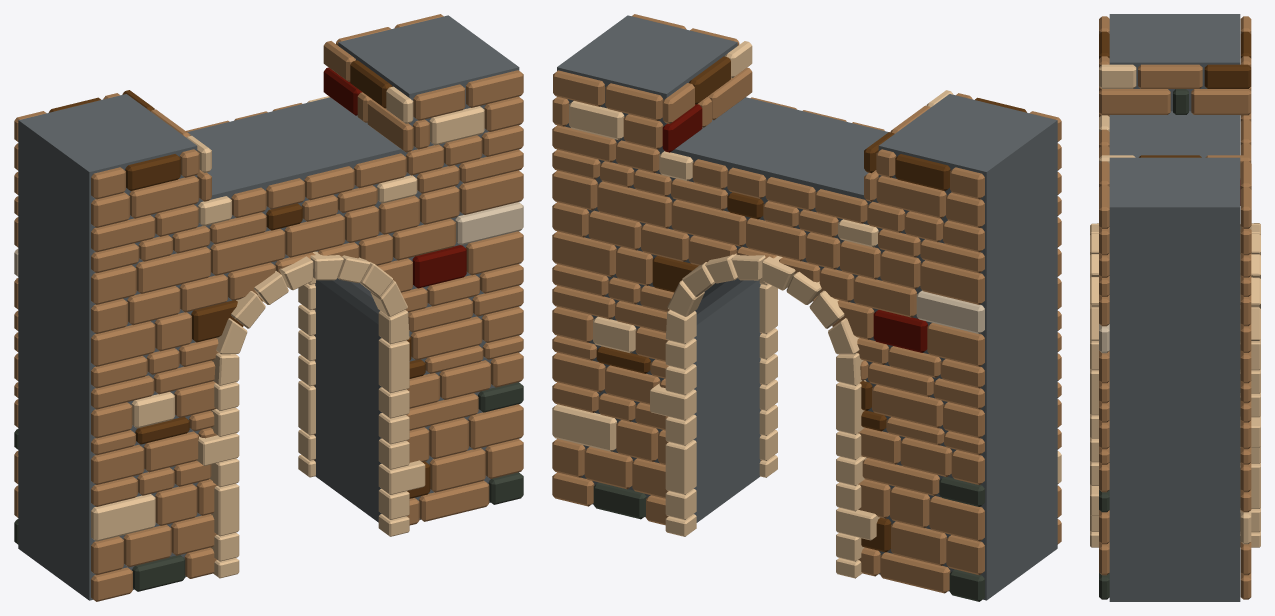
The model's file is wall-section-with-doorway.glb.
The picture shows the model from 3 angles, left to right: view 1: azimuth 30°, elevation 25°; view 2: azimuth 150°, elevation 25°; view 3: azimuth 270°, elevation 25°; orthographic projection. The views are drawn at different scales.
Visible parts, largest first — view 1: wall-back-lower, wall-core, doorframe.001, wall-back-upper-right, wall-back-upper-left, wall-crenellation-right, doorframe.002, wall-front-lower, wall-crenellation-left; view 2: wall-front-lower, wall-core, doorframe.002, wall-front-upper-left, wall-front-upper-right, wall-crenellation-right, doorframe.001, wall-back-lower, wall-crenellation-left; view 3: wall-core, wall-crenellation-left, wall-front-lower, wall-back-lower, doorframe.002, doorframe.001, wall-front-upper-left, wall-back-upper-right, wall-front-upper-right, wall-crenellation-right, wall-back-upper-left.
Part boxes in pixels (<box>): wall-back-lower: <box>91,125,523,601</box>; wall-core: <box>18,15,519,600</box>; doorframe.001: <box>197,251,425,578</box>; wall-back-upper-right: <box>413,70,523,149</box>; wall-back-upper-left: <box>91,149,199,227</box>; wall-crenellation-right: <box>323,41,413,152</box>; doorframe.002: <box>298,278,315,477</box>; wall-front-lower: <box>14,96,329,544</box>; wall-crenellation-left: <box>122,90,211,201</box>; wall-front-lower: <box>552,125,984,601</box>; wall-core: <box>557,15,1057,600</box>; doorframe.002: <box>650,253,879,578</box>; wall-front-upper-left: <box>552,70,663,149</box>; wall-front-upper-right: <box>876,149,984,227</box>; wall-crenellation-right: <box>662,41,752,152</box>; doorframe.001: <box>759,278,777,477</box>; wall-back-lower: <box>750,97,1061,544</box>; wall-crenellation-left: <box>864,90,953,201</box>; wall-core: <box>1109,14,1240,601</box>; wall-crenellation-left: <box>1099,64,1251,115</box>; wall-front-lower: <box>1240,113,1251,599</box>; wall-back-lower: <box>1099,113,1109,599</box>; doorframe.002: <box>1240,223,1260,547</box>; doorframe.001: <box>1090,223,1098,547</box>; wall-front-upper-left: <box>1240,161,1251,255</box>; wall-back-upper-right: <box>1099,161,1109,255</box>; wall-front-upper-right: <box>1240,16,1251,90</box>; wall-crenellation-right: <box>1099,155,1251,205</box>; wall-back-upper-left: <box>1099,16,1109,91</box>.
Bounding box in the file's own units: 3.05 × 2.9 × 1.14.
